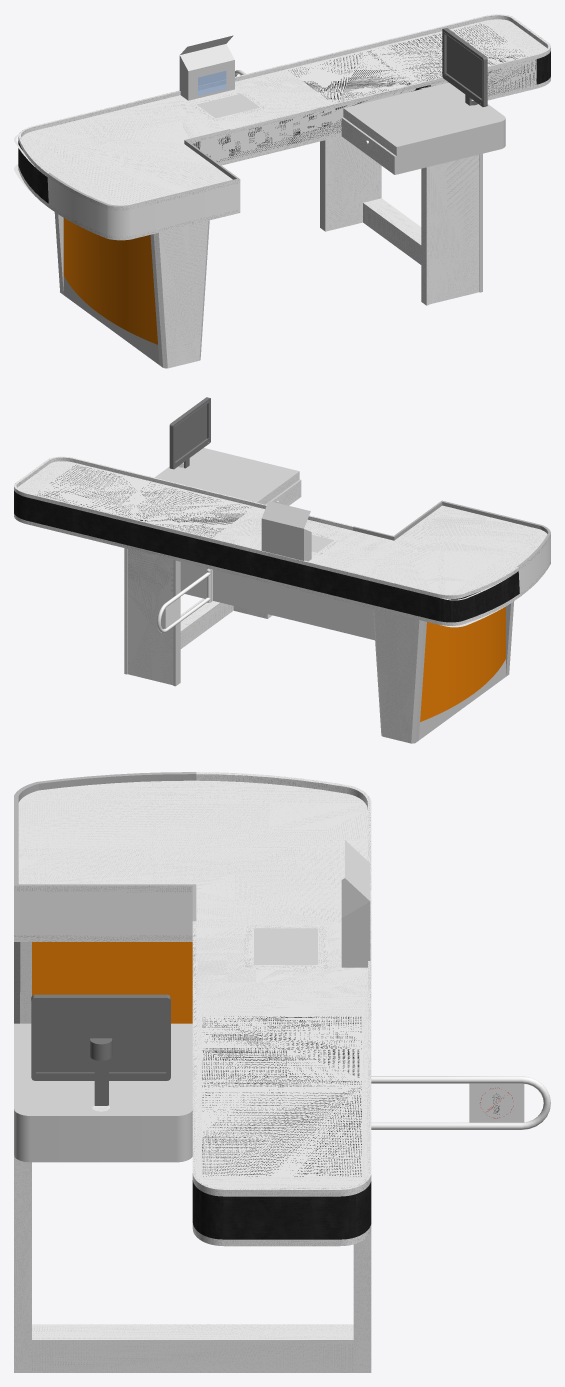
The model's file is shop-checkout-optimized.dae.
3 views of the same model, one above another, from view 1: azimuth 30°, elevation 25°; view 2: azimuth 150°, elevation 25°; view 3: azimuth 270°, elevation 25° (orthographic). The views are drawn at different scales.
Visible parts, largest first — view 1: group_3_011, group_3_005, group_3_014, group_3_025, group_3_040, group_3_033, group_3, group_3_042, group_3_023, group_4, group_10, group_3_001 (+10 smaller); view 2: group_3_011, group_3_043, group_3_040, group_3_025, group_3_012, group_3_035, group_3_033, group_3, group_3_014, group_3_001, group_3_019, group_10 (+6 smaller); view 3: group_3_011, group_3_040, group_3_005, group_3_014, group_4, group_3_025, group_3_043, group_3_023, group_3, group_10, group_1, group_3_018 (+6 smaller).
Part boxes in pixels (bbox=[...]): group_3_011: bbox=[21, 19, 547, 205]; group_3_005: bbox=[325, 136, 479, 305]; group_3_014: bbox=[342, 82, 505, 292]; group_3_025: bbox=[63, 218, 157, 344]; group_3_040: bbox=[288, 23, 527, 103]; group_3_033: bbox=[153, 220, 209, 368]; group_3: bbox=[18, 14, 550, 210]; group_3_042: bbox=[191, 59, 536, 162]; group_3_023: bbox=[47, 178, 240, 236]; group_4: bbox=[442, 28, 487, 106]; group_10: bbox=[180, 35, 234, 100]; group_3_001: bbox=[54, 212, 162, 367]; group_3_011: bbox=[17, 461, 547, 594]; group_3_043: bbox=[14, 490, 519, 622]; group_3_040: bbox=[35, 464, 252, 537]; group_3_025: bbox=[420, 606, 505, 721]; group_3_012: bbox=[180, 562, 374, 640]; group_3_035: bbox=[127, 549, 173, 685]; group_3_033: bbox=[373, 609, 419, 743]; group_3: bbox=[14, 456, 550, 598]; group_3_014: bbox=[154, 448, 300, 504]; group_3_001: bbox=[381, 601, 514, 743]; group_3_019: bbox=[14, 514, 550, 625]; group_10: bbox=[261, 501, 310, 560]; group_3_011: bbox=[18, 780, 367, 1187]; group_3_040: bbox=[202, 1016, 361, 1176]; group_3_005: bbox=[14, 1105, 371, 1372]; group_3_014: bbox=[14, 1023, 192, 1162]; group_4: bbox=[31, 994, 170, 1080]; group_3_025: bbox=[32, 942, 192, 1023]; group_3_043: bbox=[192, 1180, 371, 1239]; group_3_023: bbox=[14, 892, 192, 935]; group_3: bbox=[14, 772, 371, 1196]; group_10: bbox=[341, 840, 370, 967]; group_1: bbox=[371, 1076, 550, 1129]; group_3_018: bbox=[14, 772, 196, 921].
Size of the model in its own units: 2.71 by 1.47 by 1.16.
13 materials, 1 textured.
